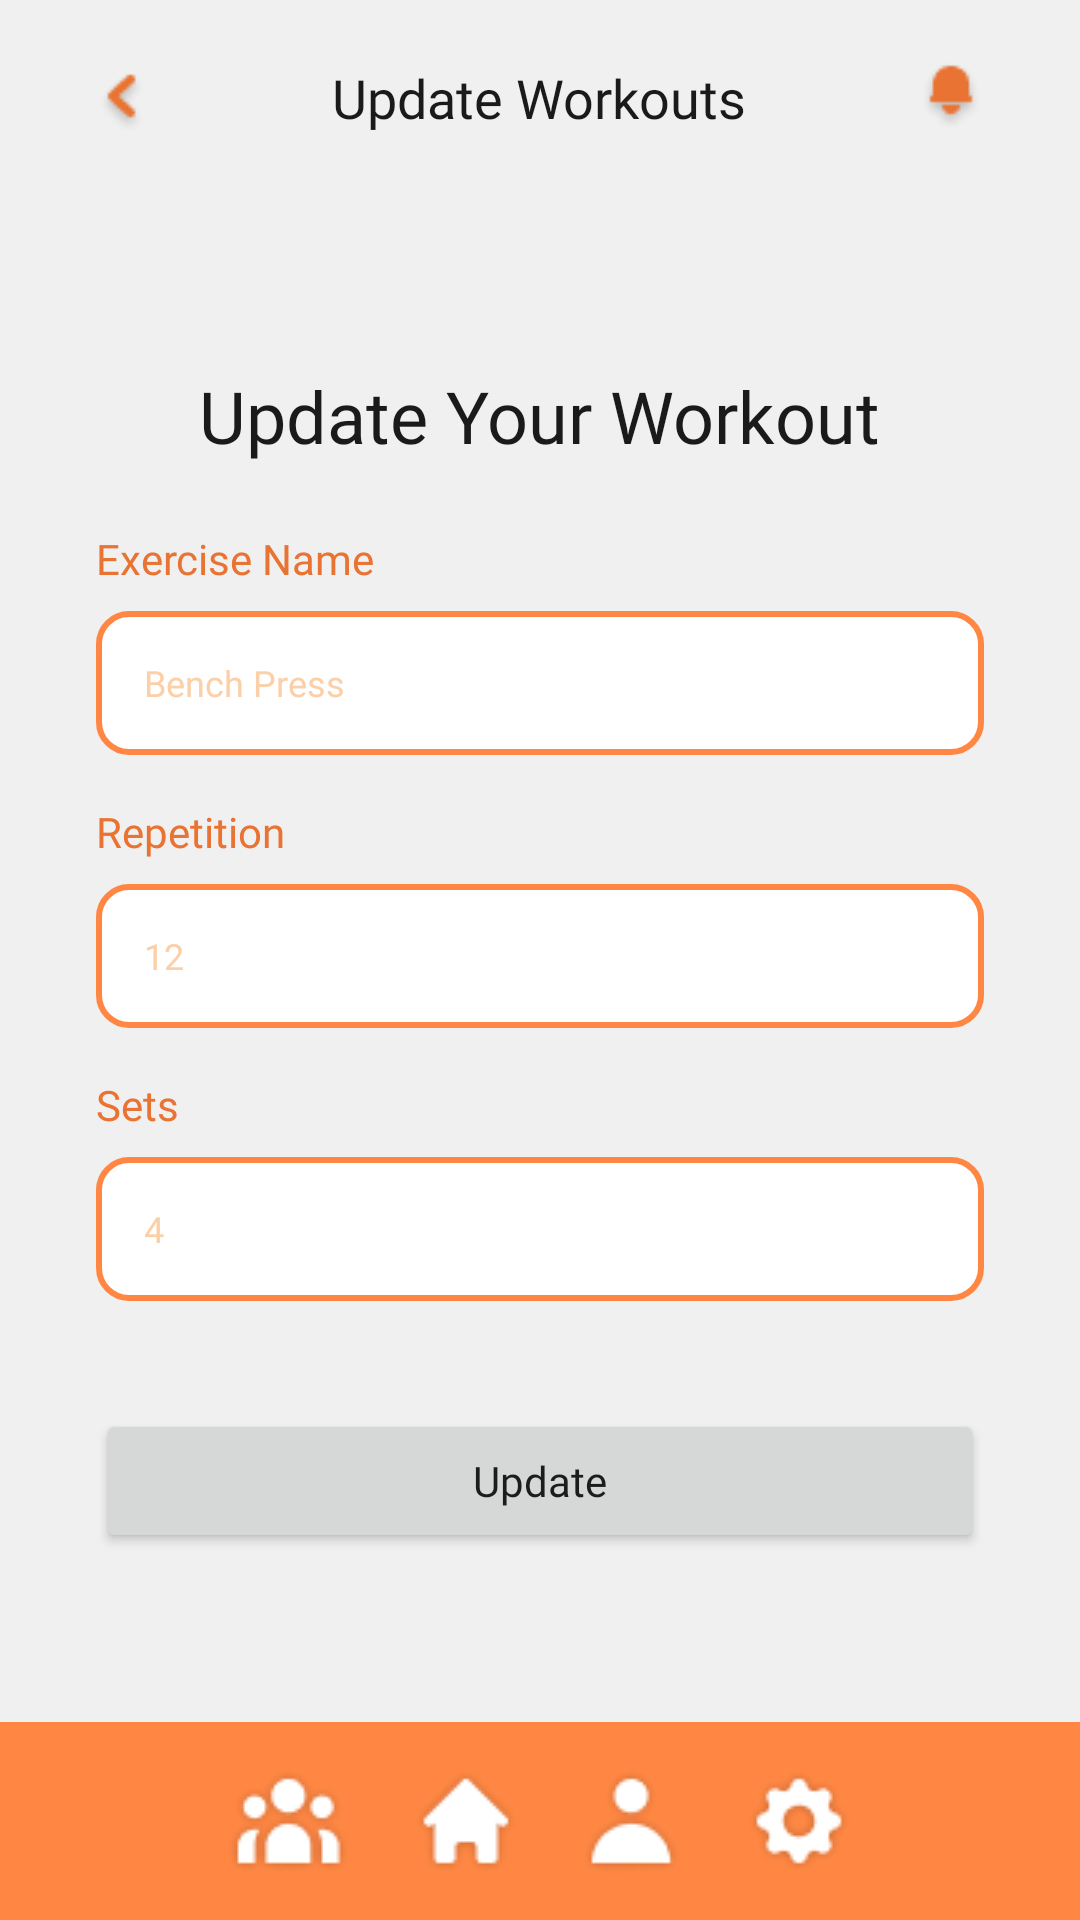

Where icons sit on this 1080 × 1920 app screen, as (x1, y1, x2, y2):
Back: (107, 74, 136, 120)
community: (236, 1778, 341, 1865)
home: (423, 1778, 509, 1864)
Notify: (929, 65, 973, 118)
profile: (591, 1778, 671, 1865)
settings: (756, 1778, 842, 1864)
